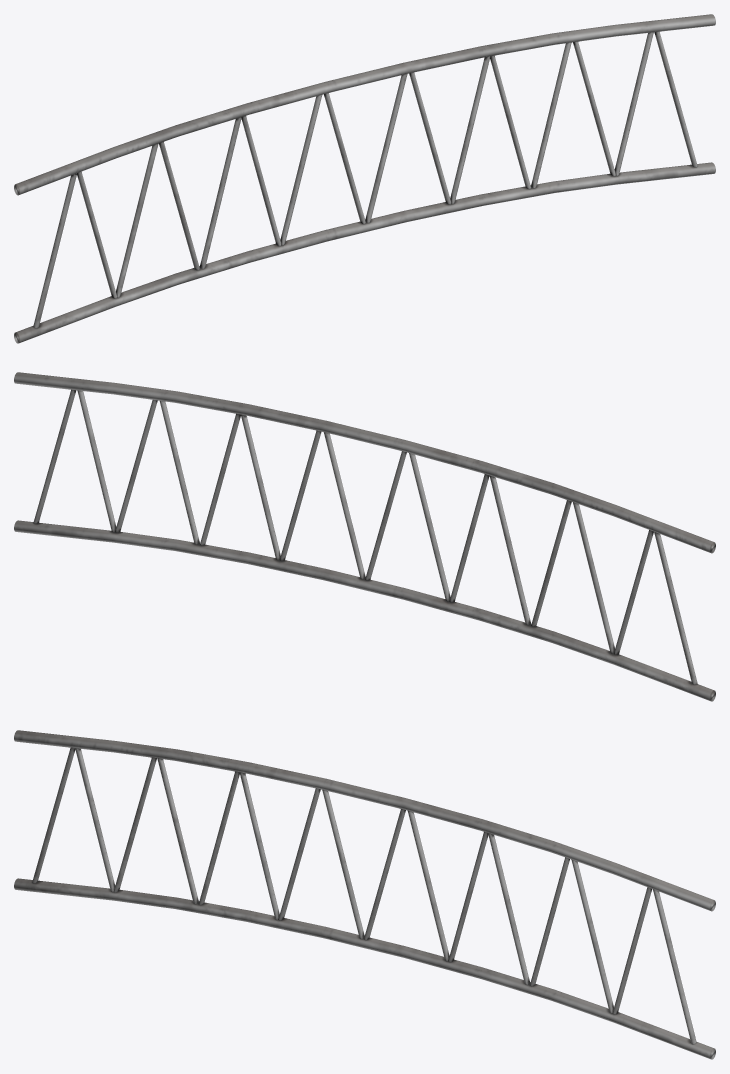
Rendered from SM_Tribines_Constructions_M.fbx.
3 renders of one model, top to bottom at view 1: azimuth 30°, elevation 25°; view 2: azimuth 150°, elevation 25°; view 3: azimuth 330°, elevation 25°, orthographic.
Parts seen in each view (by area): view 1: SM_Tribines_Constructions_M_LOD0; view 2: SM_Tribines_Constructions_M_LOD0; view 3: SM_Tribines_Constructions_M_LOD0.
Part boxes in pixels (x1,y1,x2,y2): SM_Tribines_Constructions_M_LOD0: (14,14,715,343); SM_Tribines_Constructions_M_LOD0: (14,372,715,701); SM_Tribines_Constructions_M_LOD0: (14,730,715,1059).
Size of the model in its own units: 437 by 6.4 by 111.
Materials: 1 (1 with a texture image).
